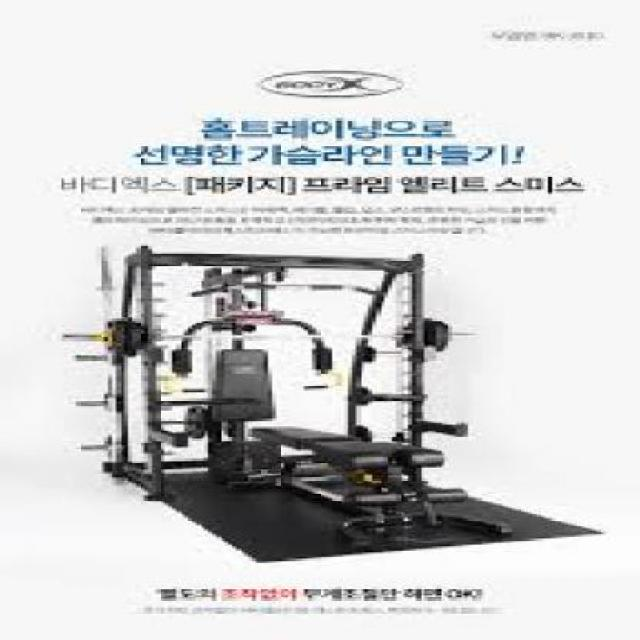smith machine: (64, 243, 518, 552)
